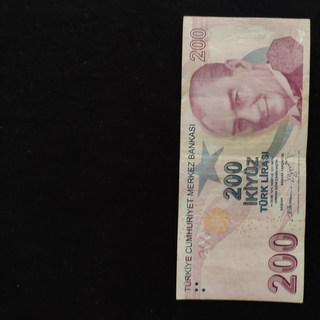200TLFront: (175, 14, 311, 303)
